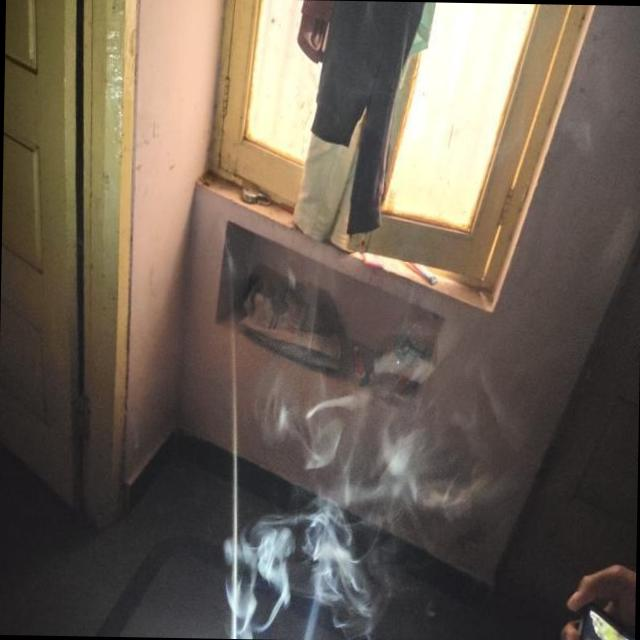smoke: (217, 302, 485, 640)
